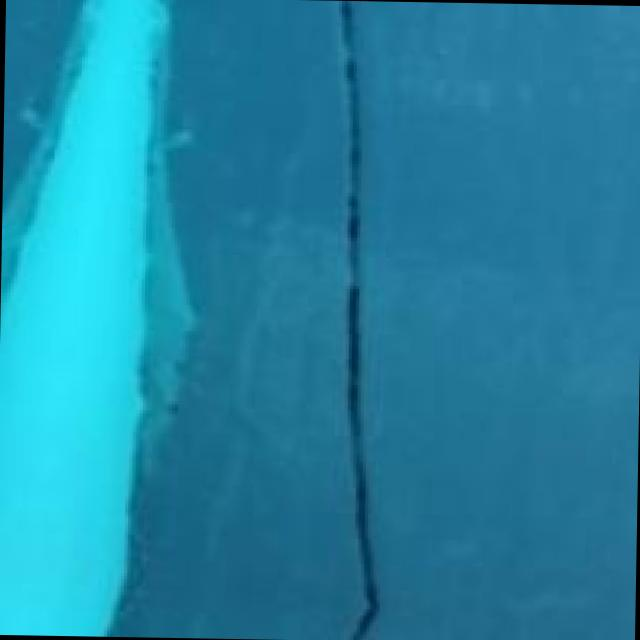crack: (296, 3, 434, 639)
